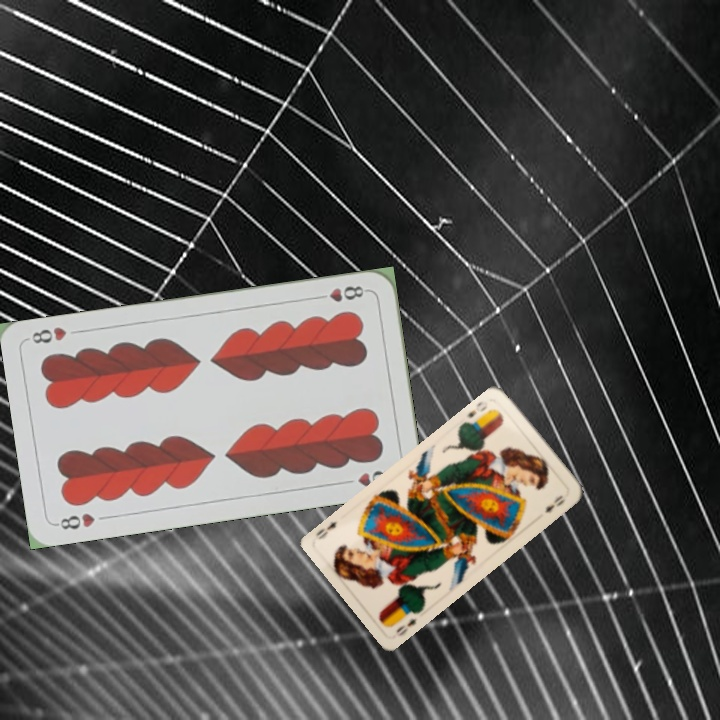EO: (392, 614, 420, 639), (463, 397, 491, 421)
H8: (312, 282, 371, 305), (51, 509, 98, 532)
